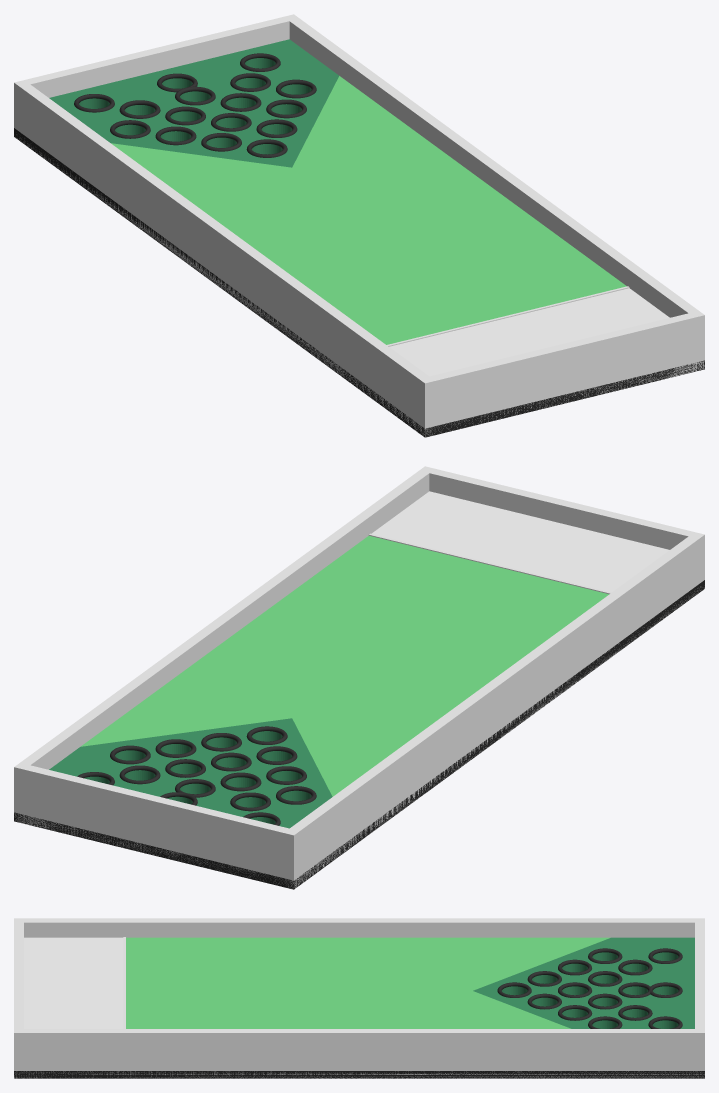
Rendered from playfield.glb.
3 views of the same model, one above another, from view 1: azimuth 30°, elevation 25°; view 2: azimuth 150°, elevation 25°; view 3: azimuth 270°, elevation 25° (orthographic). The views are drawn at different scales.
Parts seen in each view (by area): view 1: Field_Light, Rail_Left, Field_Dark, Rail_Bottom, Rail_Right, Launch_Zone, Base, Rail_Top, Launch_Line; view 2: Field_Light, Rail_Left, Rail_Top, Launch_Zone, Field_Dark, Rail_Right, Base, Rail_Bottom, Launch_Line; view 3: Field_Light, Rail_Right, Rail_Left, Field_Dark, Launch_Zone, Base, Rail_Bottom, Rail_Top, Rim_Blue_05, Rim_Yellow_05, Rim_Yellow_06, Rim_Yellow_03 (+11 smaller).
Boxes of the visible parts, x1,y1,x2,y2 form: Field_Light: (111, 76, 626, 344); Rail_Left: (14, 80, 435, 437); Field_Dark: (49, 39, 338, 167); Rail_Bottom: (429, 313, 694, 432); Rail_Right: (284, 14, 704, 371); Launch_Zone: (389, 288, 669, 376); Base: (14, 128, 704, 437); Rail_Top: (25, 17, 289, 97); Launch_Line: (387, 286, 629, 346); Field_Light: (80, 535, 608, 796); Rail_Left: (283, 532, 704, 888); Rail_Top: (24, 765, 289, 884); Launch_Zone: (371, 491, 669, 592); Field_Dark: (49, 718, 332, 828); Rail_Right: (14, 466, 434, 823); Base: (14, 580, 704, 889); Rail_Bottom: (429, 469, 693, 549); Launch_Line: (368, 533, 611, 594); Field_Light: (126, 937, 610, 1028); Rail_Right: (14, 1029, 704, 1078); Rail_Left: (14, 918, 704, 937); Field_Dark: (473, 937, 694, 1028); Launch_Zone: (24, 937, 123, 1028); Base: (14, 1071, 704, 1078); Rail_Bottom: (14, 922, 23, 1028); Rail_Top: (695, 922, 704, 1028); Rim_Blue_05: (588, 971, 622, 986); Rim_Yellow_05: (527, 971, 561, 986); Rim_Yellow_06: (527, 993, 561, 1009); Rim_Yellow_03: (558, 959, 591, 975).
Bounding box in the file's own units: 3.24 × 0.6 × 8.24.
